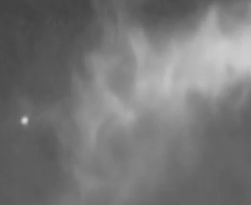Target: (21, 116, 29, 124)
